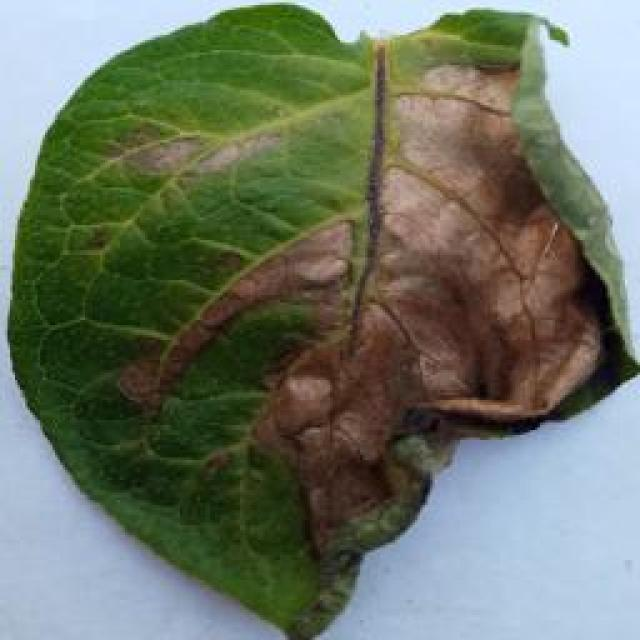Potato_Late_Blight: (8, 7, 626, 638)
